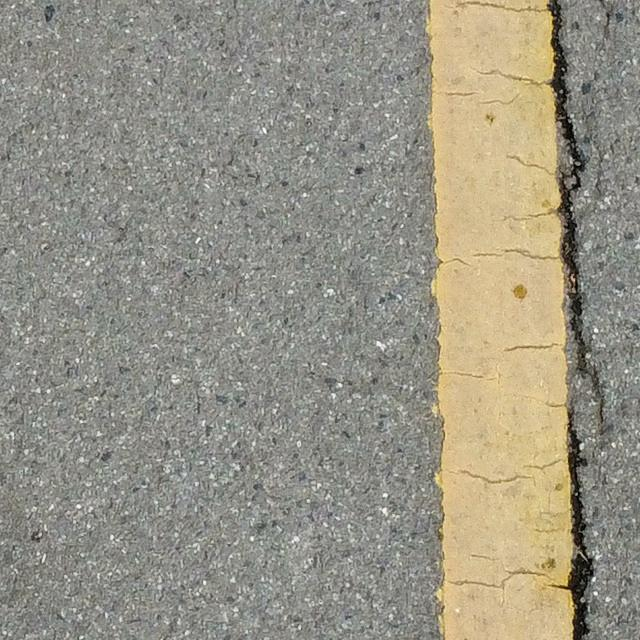LongitudinalCrack: (547, 1, 602, 419), (563, 410, 595, 640)
